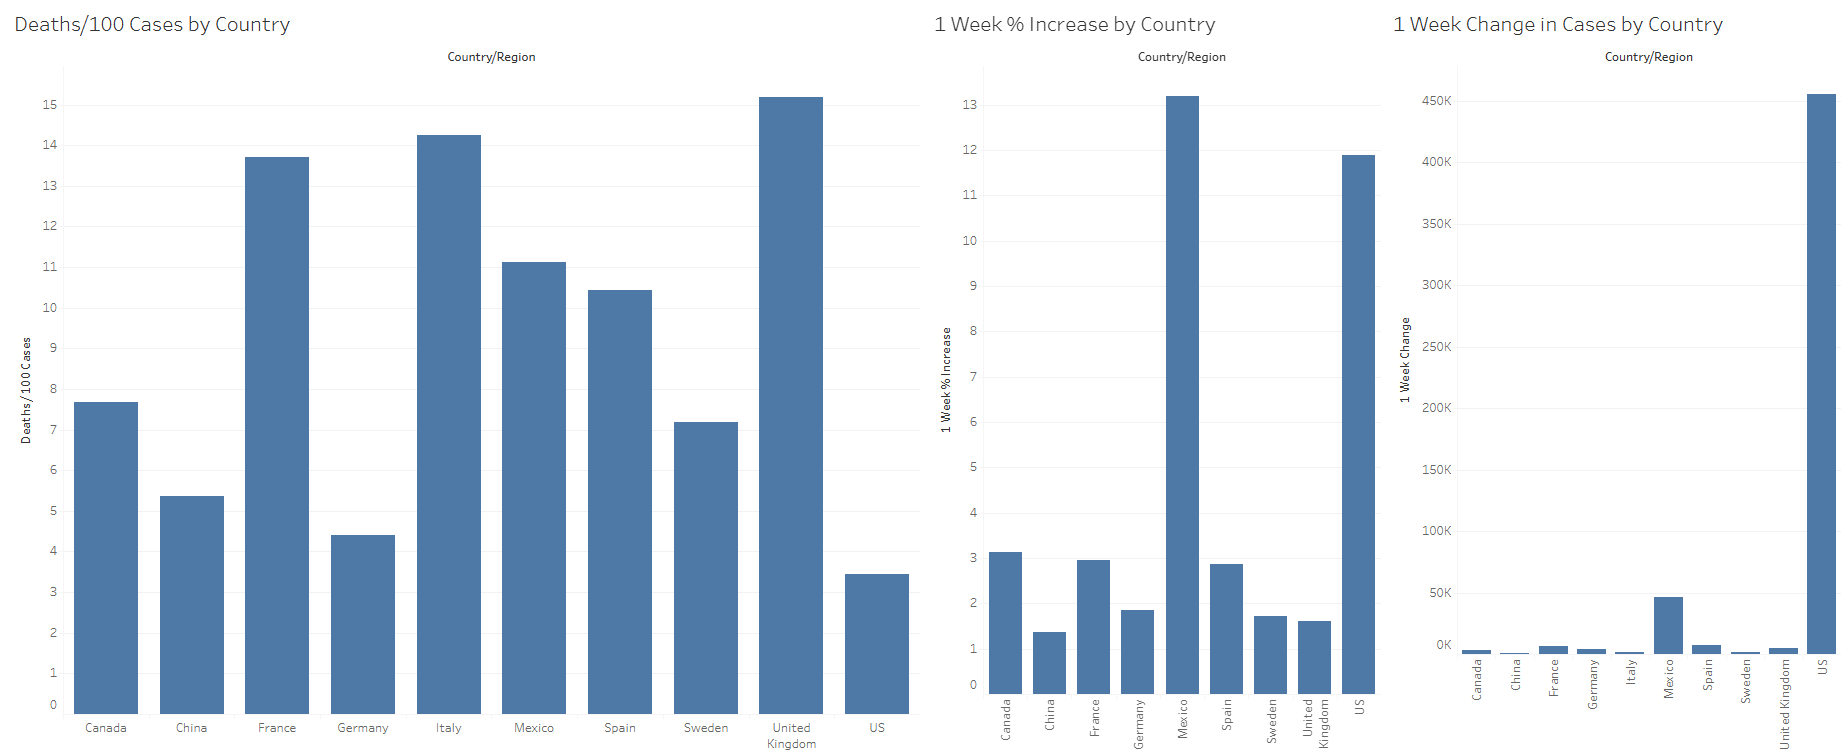

What the dashboard file says about the page in this screenshot:
{"tool":"tableau","page":{"name":"Dashboard 1","canvas":[1000,1000],"units":"permille","ordinal":0},"visuals":[{"type":"worksheet","title":"Deaths/100 Cases by Country","mark":"Automatic","rows":["Deaths / 100 Cases"],"cols":["Country/Region"],"box":[4.7,9.3,495.3,981.3]},{"type":"worksheet","title":"1 Week % Increase by Country","mark":"Automatic","rows":["1 week % increase"],"cols":["Country/Region"],"box":[500,9.3,247.7,981.3]},{"type":"worksheet","title":"1 Week Change in Cases by Country","mark":"Automatic","rows":["1 week change"],"cols":["Country/Region"],"box":[747.6,9.3,247.7,981.3]}]}

Visuals, with their boxes on the dashboard's canvas, which has no fixed pixel size, in thousandths of its width and height (x1, y1, x2, y2). These are canvas units, not pixel positions in the 1842x752 screenshot, which may show the page scaled, cropped or inside an application window:
"Deaths/100 Cases by Country" worksheet: <bbox>5, 9, 500, 991</bbox>
"1 Week % Increase by Country" worksheet: <bbox>500, 9, 748, 991</bbox>
"1 Week Change in Cases by Country" worksheet: <bbox>748, 9, 995, 991</bbox>
